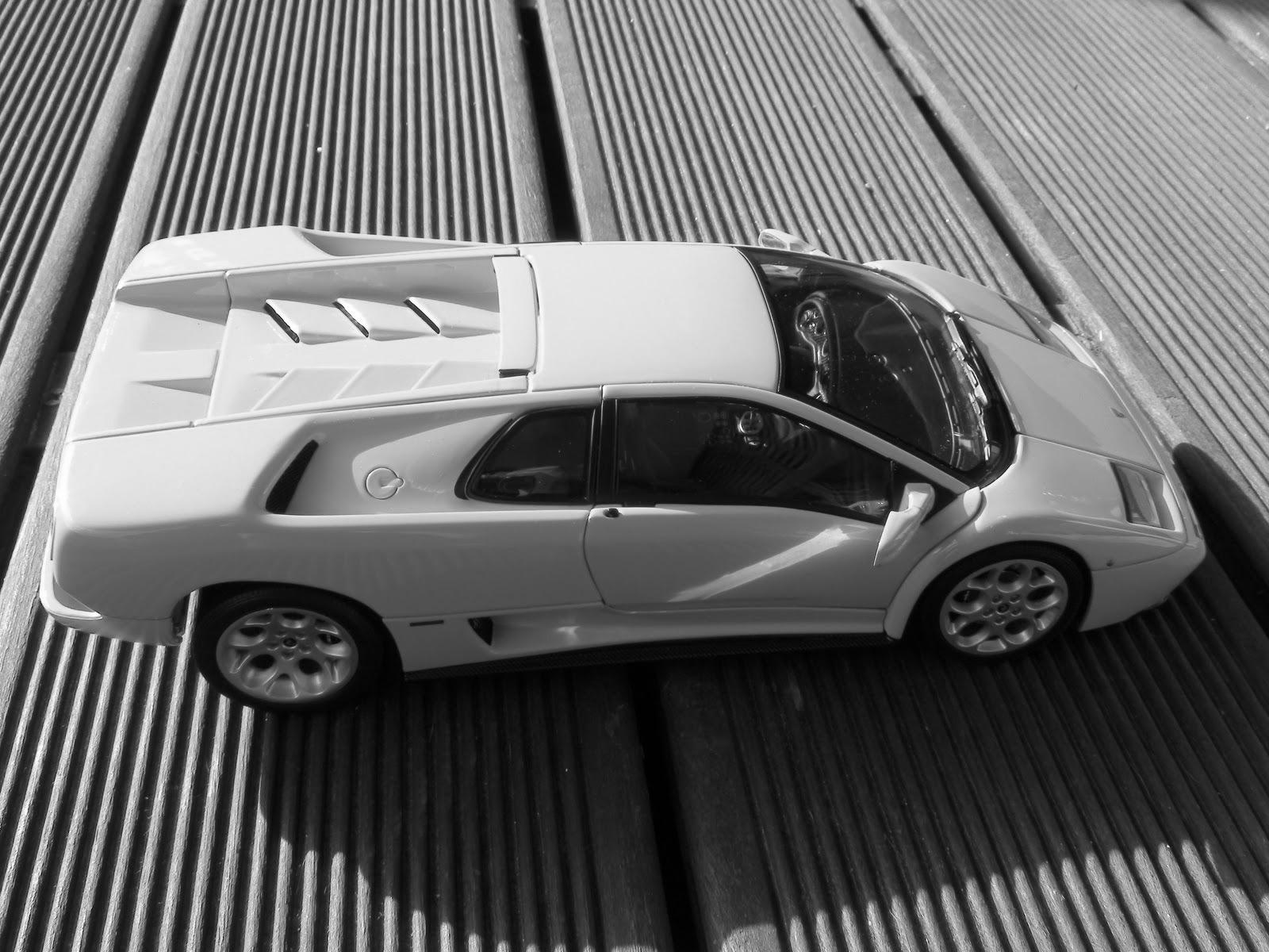car: (27, 170, 1243, 777)
